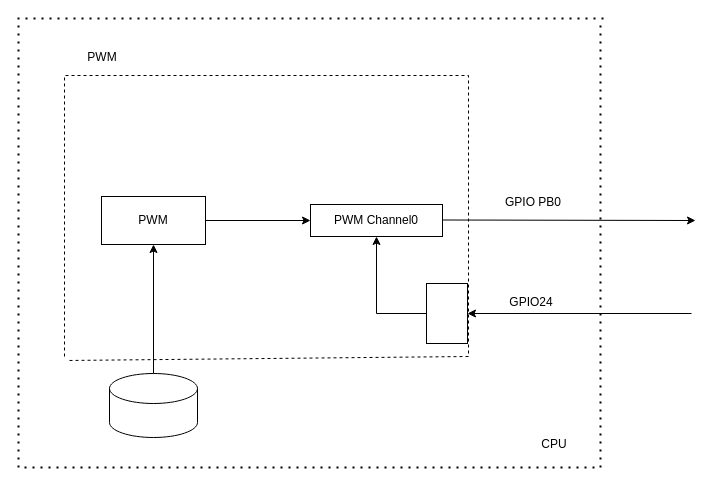
The diagram is 721 pixels wide and 486 high, and some of its shapes have lost their labels. The centre of each missing label's shape, as x and y in pixels:
I/O: point (447, 313)
Perioherals Clock: point (153, 405)
